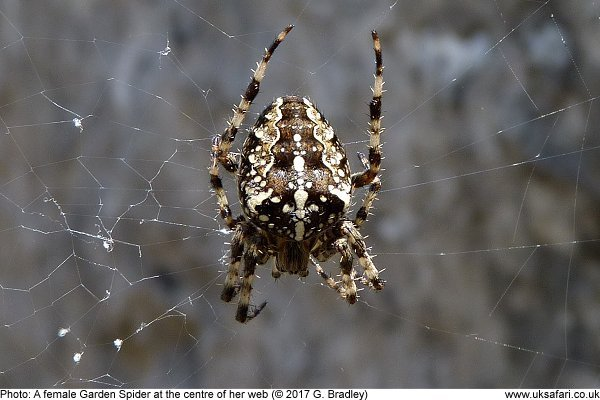spider: (192, 5, 417, 325)
